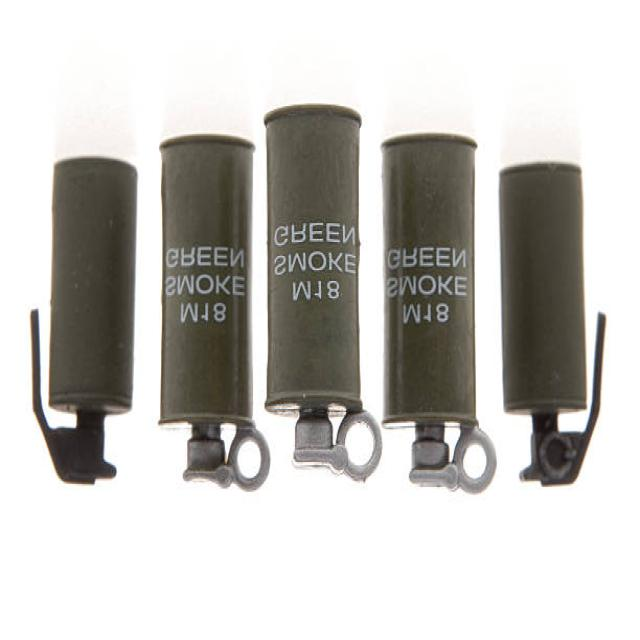grenade: (265, 99, 383, 487), (494, 153, 612, 499)
